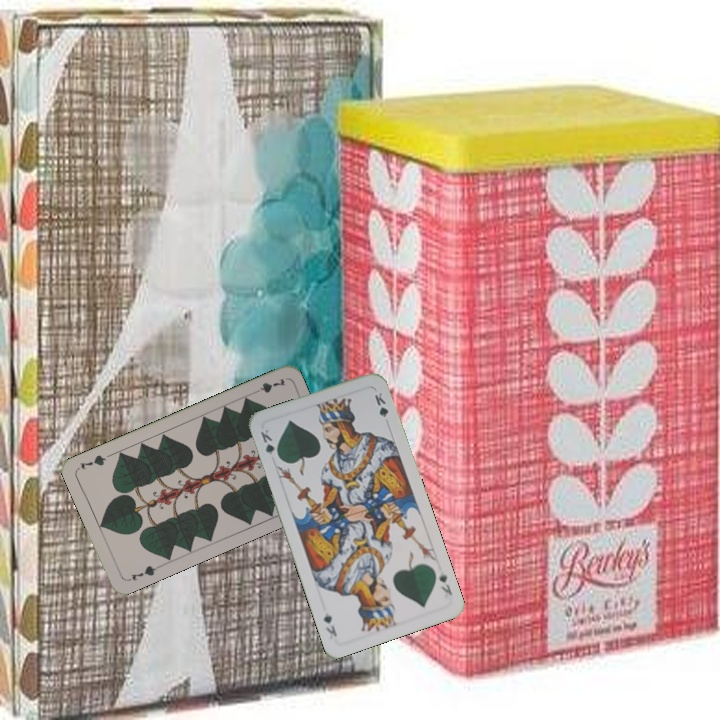G7: (248, 374, 288, 397), (123, 561, 162, 584)
GK: (256, 425, 282, 462), (435, 567, 455, 598)
